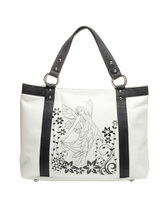bag: (16, 25, 153, 182)
